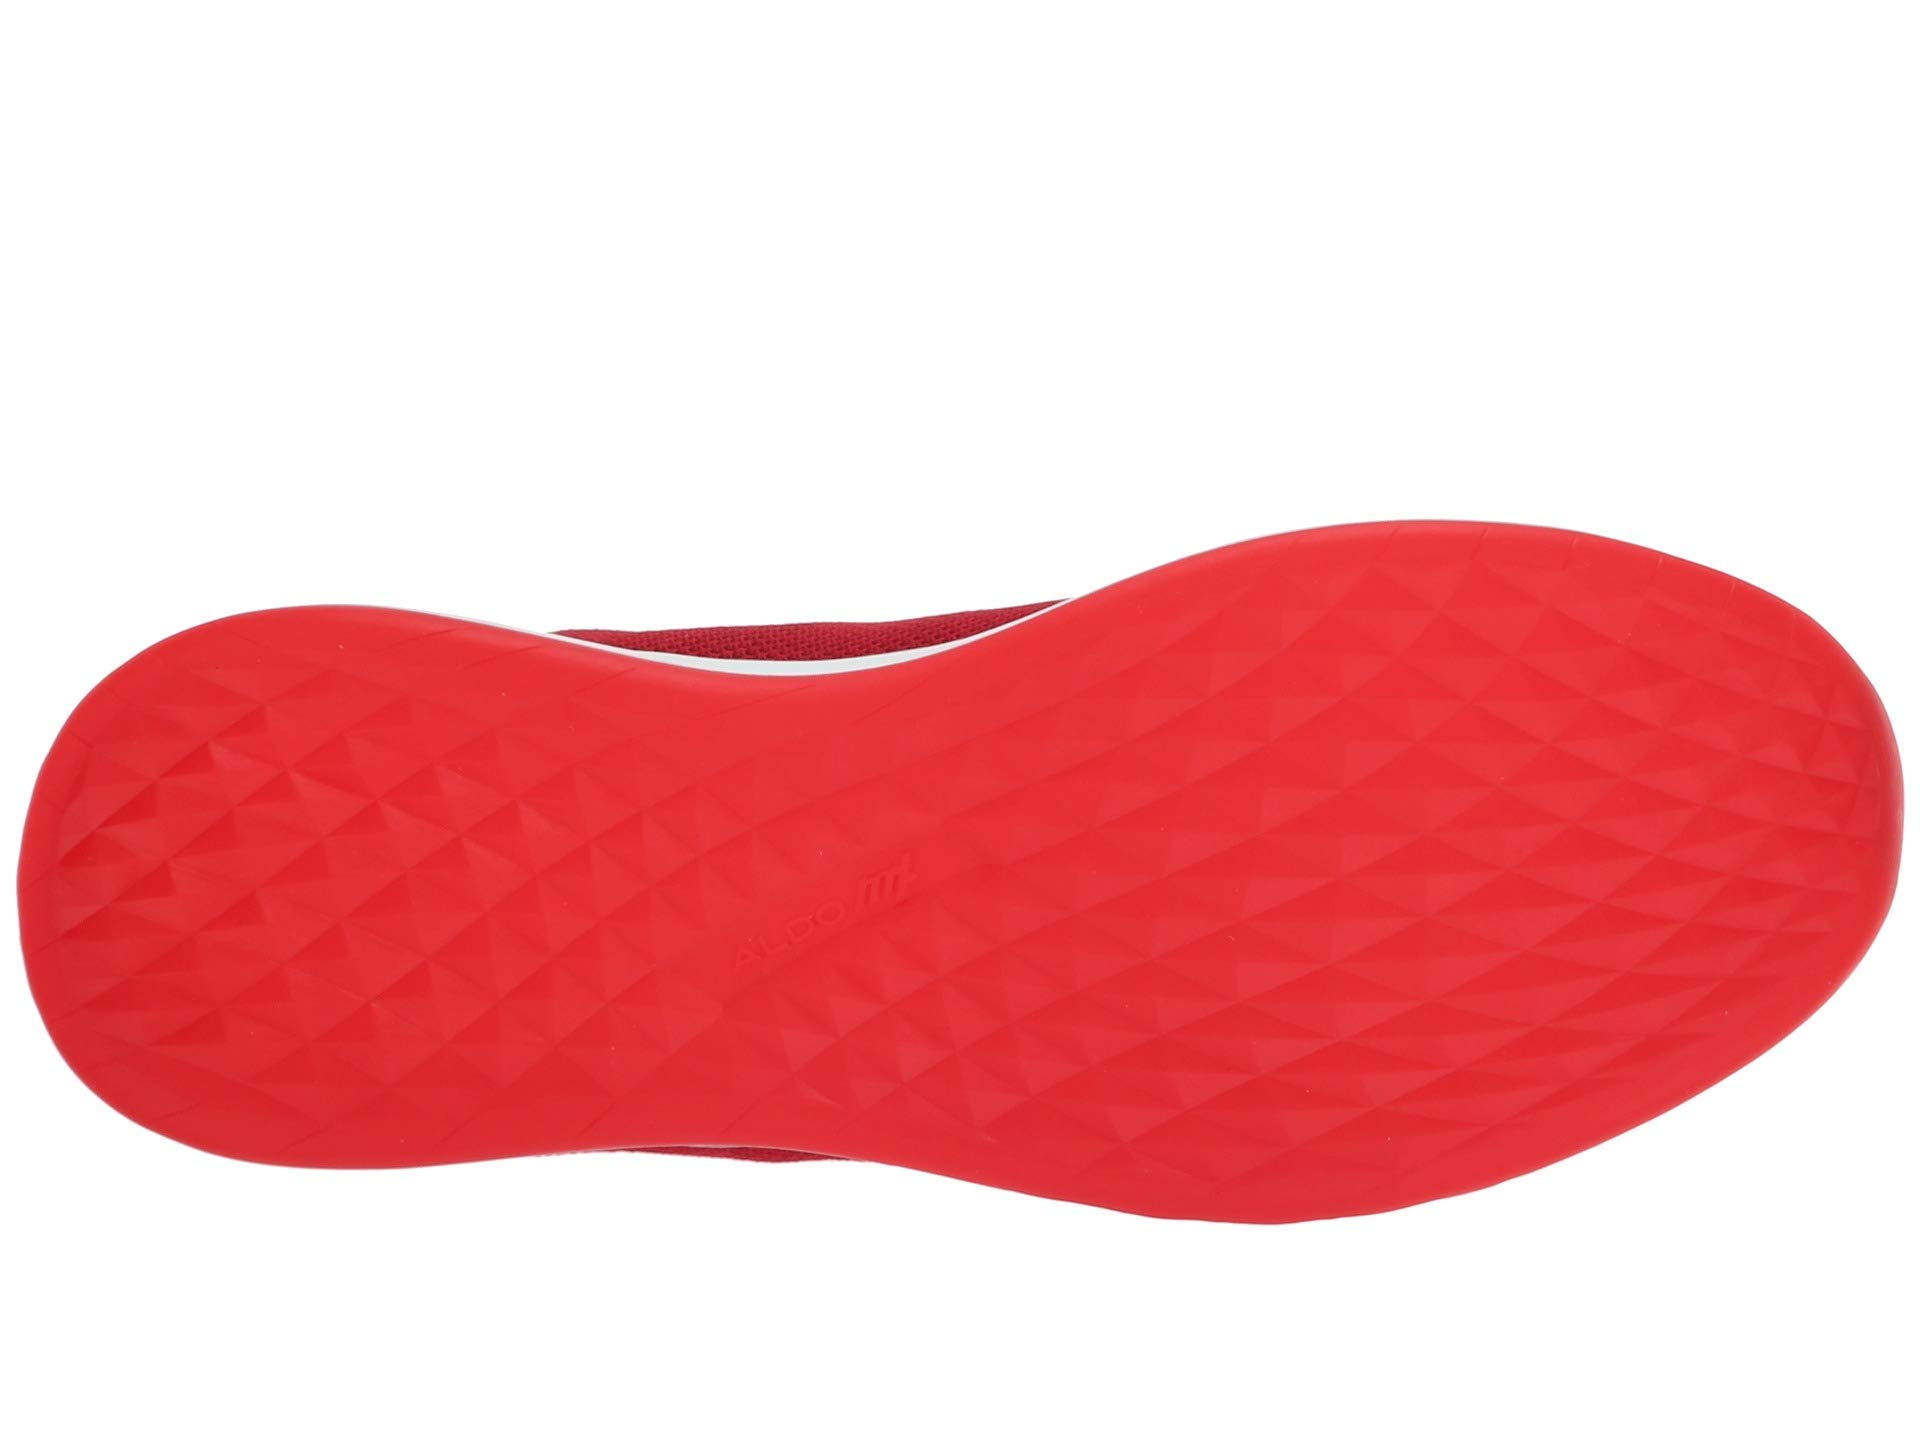circle: (599, 773, 992, 1103)
quad: (1290, 616, 1689, 983), (599, 773, 992, 1103)
text: (599, 773, 992, 1103)
